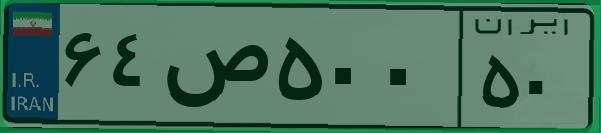0: (385, 28, 445, 110), (330, 28, 385, 110), (525, 38, 570, 115)
4: (110, 28, 158, 98)
5: (270, 28, 330, 110), (475, 38, 525, 113)
6: (57, 26, 110, 100)
ص: (158, 20, 270, 120)
